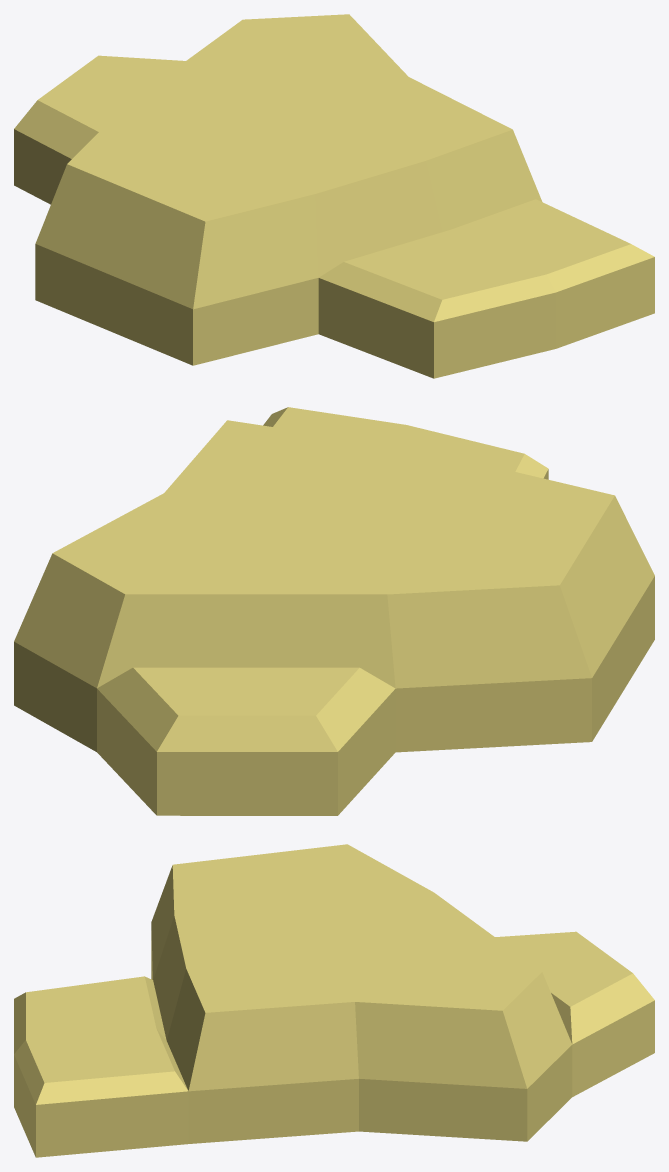
Rendered from RockType4 03.fbx.
The picture shows the model from 3 angles, top to bottom: view 1: azimuth 30°, elevation 25°; view 2: azimuth 150°, elevation 25°; view 3: azimuth 270°, elevation 25°; orthographic projection. The views are drawn at different scales.
Visible parts, largest first — view 1: Rock Type4 03 mesh; view 2: Rock Type4 03 mesh; view 3: Rock Type4 03 mesh.
Part boxes in pixels (box(x1,y1,x2,y2)): Rock Type4 03 mesh: box(14, 14, 654, 378); Rock Type4 03 mesh: box(14, 407, 654, 815); Rock Type4 03 mesh: box(14, 844, 654, 1157).
Size of the model in its own units: 152 by 41.76 by 200.
